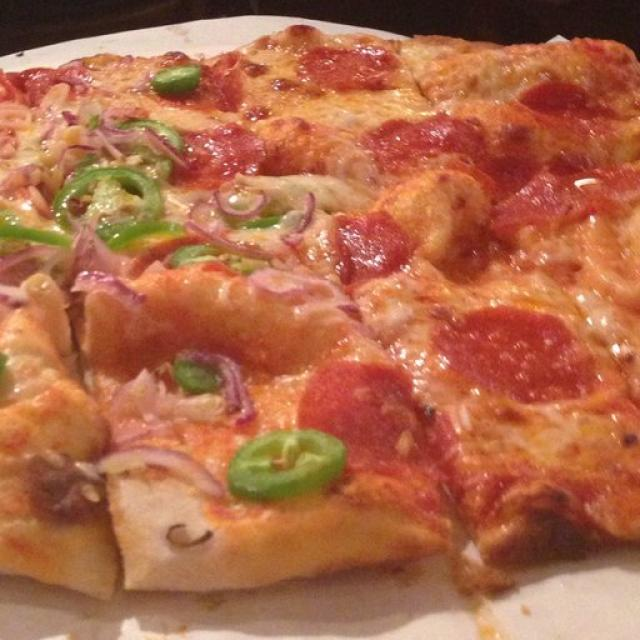Pepperoni: (307, 364, 454, 469), (450, 308, 596, 399), (485, 162, 571, 222), (176, 130, 270, 182), (370, 114, 479, 156), (340, 214, 412, 275), (518, 79, 626, 118), (304, 49, 396, 86), (0, 73, 92, 102)
Pizza: (0, 22, 640, 602)
